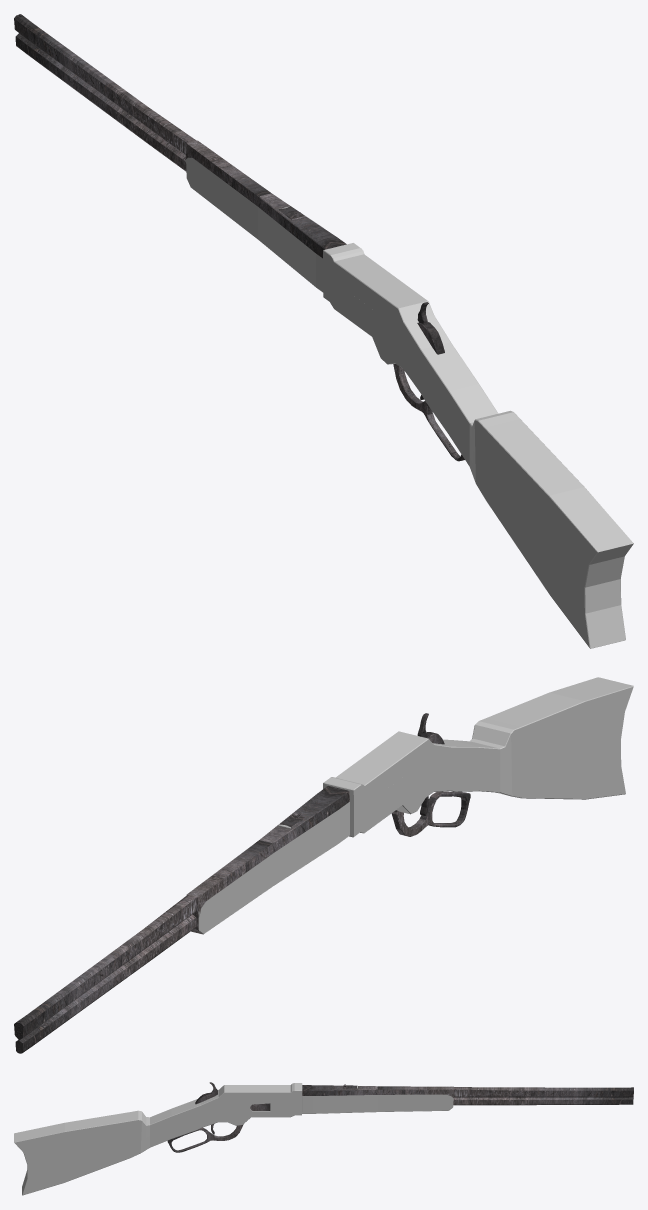
File: winchester 1.fbx
The picture shows the model from 3 angles, top to bottom: view 1: azimuth 30°, elevation 25°; view 2: azimuth 150°, elevation 25°; view 3: azimuth 270°, elevation 25°; orthographic projection. The views are drawn at different scales.
Parts seen in each view (by area): view 1: Cube, Cube.001; view 2: Cube, Cube.001; view 3: Cube, Cube.001.
Part boxes in pixels (left/top/right/bottom): Cube: left=14, top=14, right=633, bottom=648; Cube.001: left=393, top=364, right=464, bottom=461; Cube: left=14, top=677, right=633, bottom=1053; Cube.001: left=391, top=791, right=470, bottom=836; Cube: left=14, top=1083, right=633, bottom=1195; Cube.001: left=167, top=1124, right=243, bottom=1152.
Size of the model in its own units: 16.21 by 89.01 by 461.
